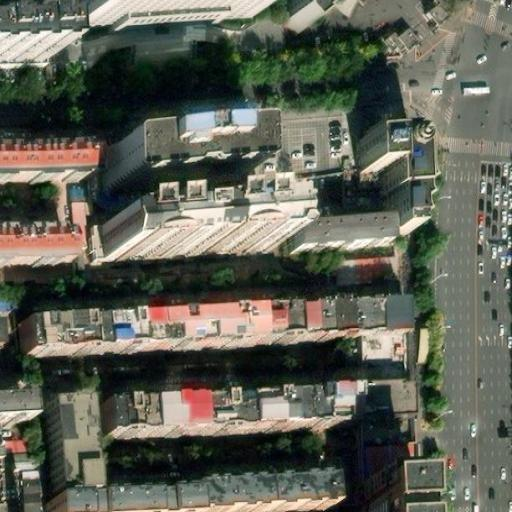building: (149, 387, 355, 433), (112, 205, 285, 256), (116, 134, 248, 183), (194, 472, 335, 512), (126, 306, 261, 345), (67, 0, 250, 24), (42, 397, 85, 495), (31, 312, 128, 350), (0, 243, 81, 286), (46, 489, 195, 512), (0, 167, 105, 196), (287, 205, 381, 234), (327, 291, 406, 324), (282, 0, 343, 41), (259, 297, 328, 333), (352, 137, 408, 177), (103, 395, 151, 438), (331, 255, 392, 288), (353, 385, 408, 416), (0, 35, 49, 67), (379, 175, 410, 225), (356, 332, 402, 364), (17, 467, 43, 512), (0, 397, 21, 436), (367, 500, 407, 512), (0, 309, 12, 345)
